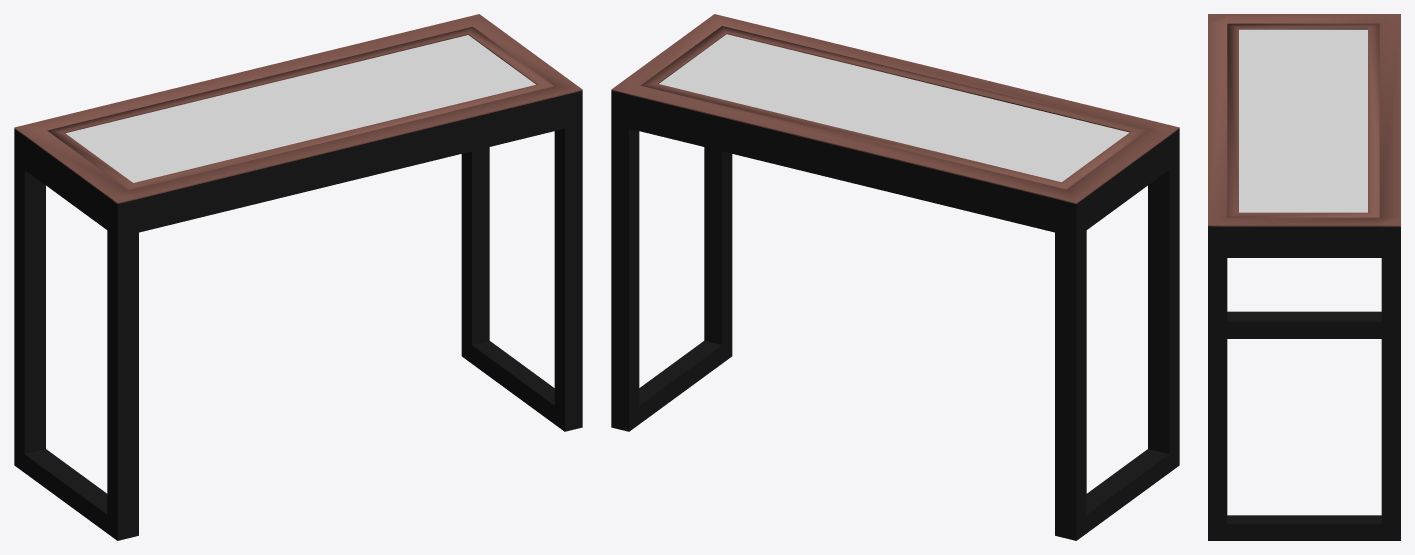
The model's file is tablewithchair.fbx.
3 renders of one model, left to right at view 1: azimuth 30°, elevation 25°; view 2: azimuth 150°, elevation 25°; view 3: azimuth 270°, elevation 25°, orthographic. The views are drawn at different scales.
Visible parts, largest first — view 1: table_chair, glass; view 2: table_chair, glass; view 3: table_chair, glass.
Boxes of the visible parts, box(x1,y1,x2,y2) form: table_chair: box(14, 14, 582, 540); glass: box(66, 35, 535, 182); table_chair: box(611, 14, 1179, 540); glass: box(659, 34, 1129, 182); table_chair: box(1208, 14, 1400, 540); glass: box(1239, 29, 1367, 212).
Bounding box in the file's own units: 96.28 × 66.82 × 37.04.
